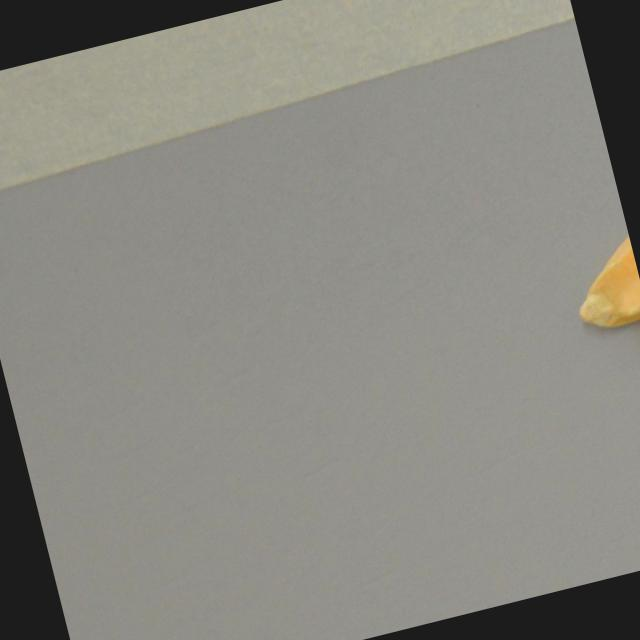entero: (561, 225, 640, 338)
